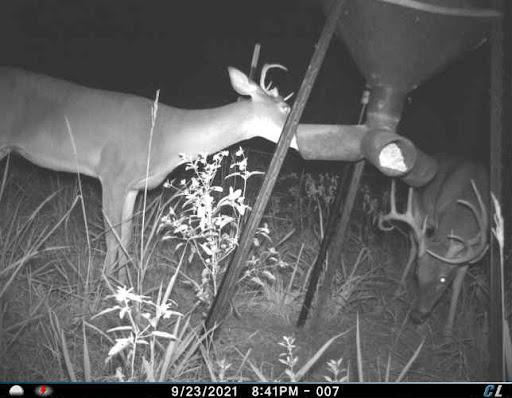Deer: (1, 55, 298, 296), (380, 145, 497, 350)
